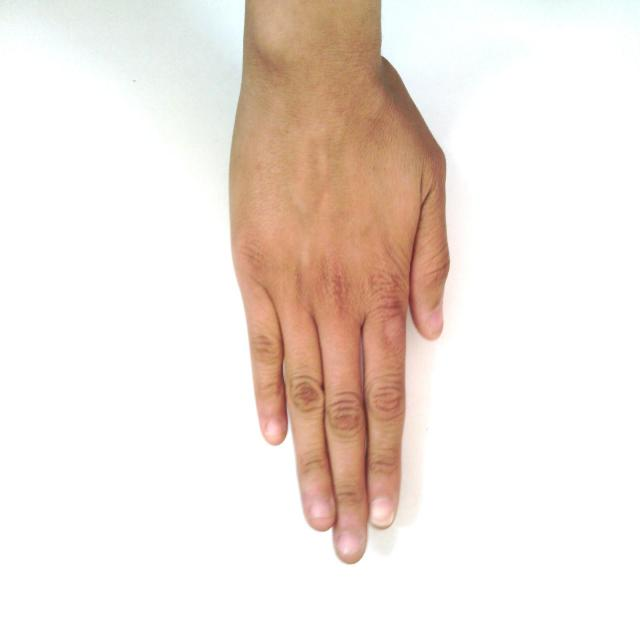others: (171, 1, 541, 577)
